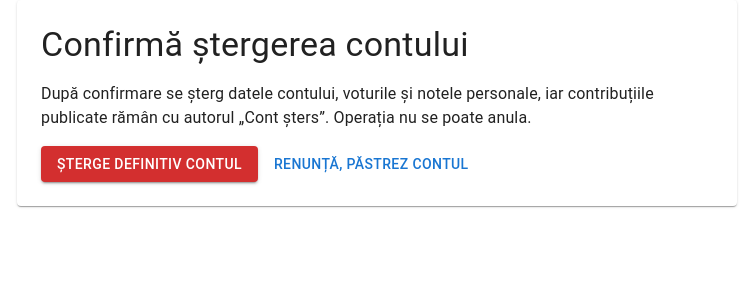
Scenario: confirmarea: link expirat → mesajul serverului și „Cere un link nou”
Click the button "Șterge definitiv contul".
click(150, 164)  # box [41,146,258,182]
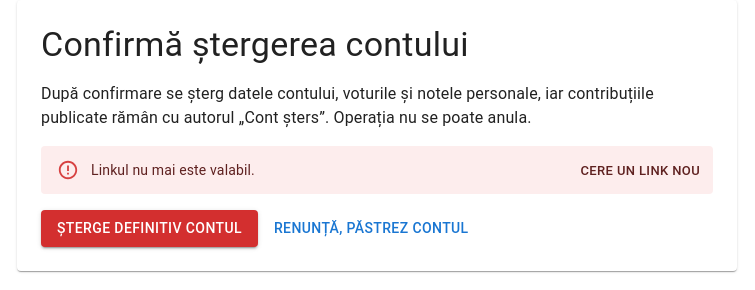
Check: the text "Linkul nu mai este valabil." is shown, box [91,162,255,178]
